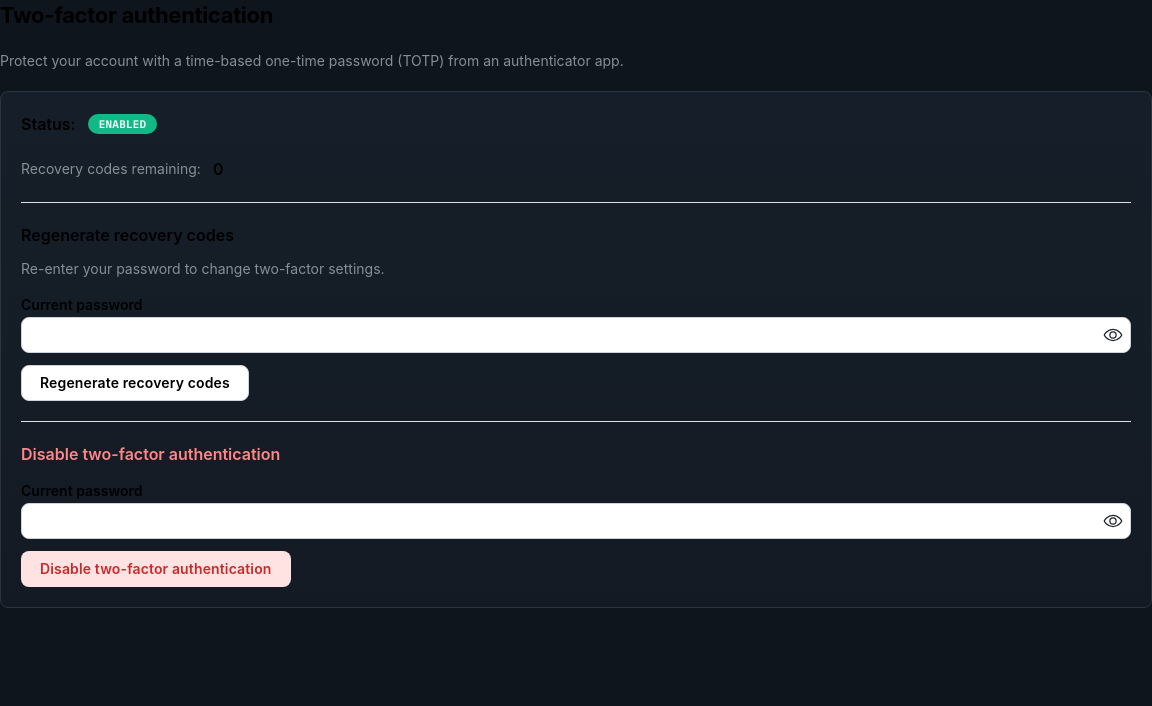
Test: MfaPanel — enabled management › regenerate codes shows the new set
The image size is (1152, 706).
Type "pw12345" into the password field with test id "mfa-regen-password" at {"x": 576, "y": 335}, box [22, 318, 1130, 352]
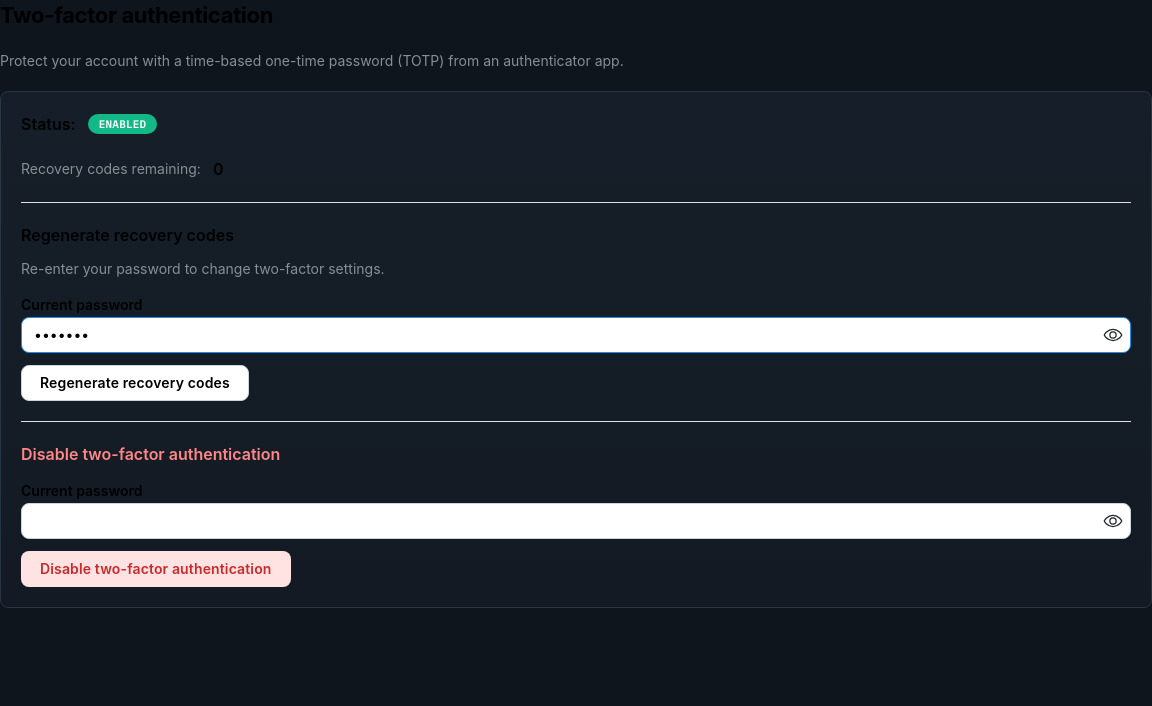
Click the button with test id "mfa-regen" at {"x": 135, "y": 383}, box [21, 365, 249, 401]
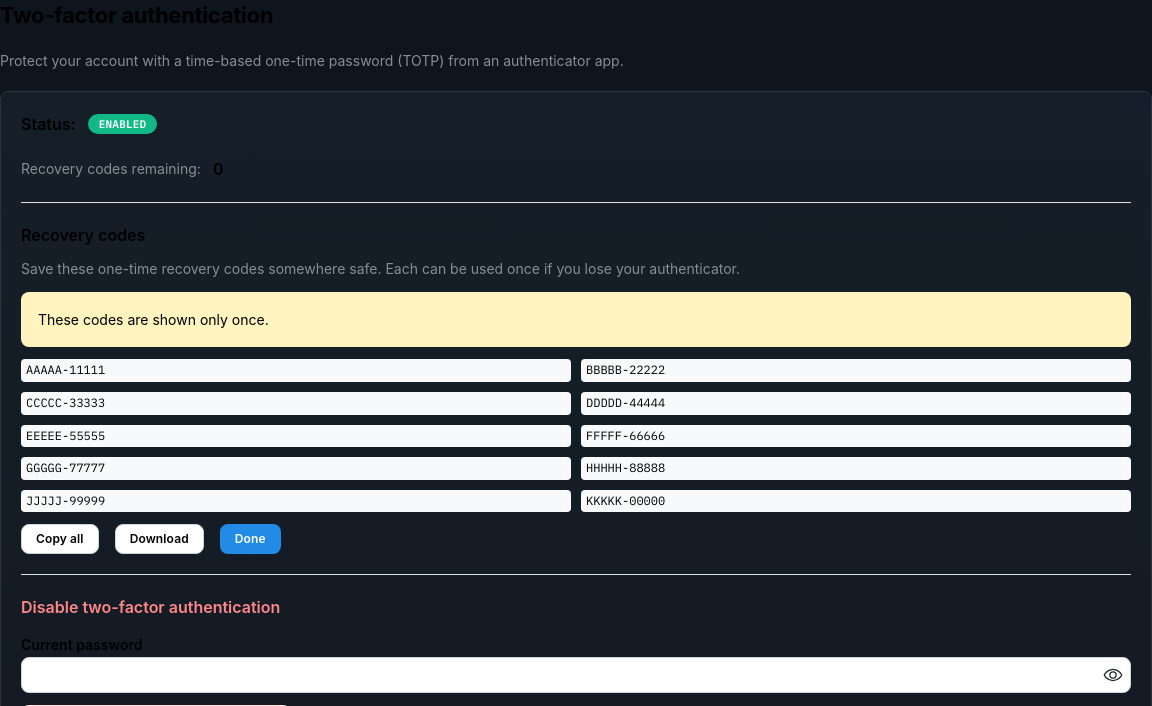
Check: the text "AAAAA-11111" is shown, box [21, 360, 571, 382]
